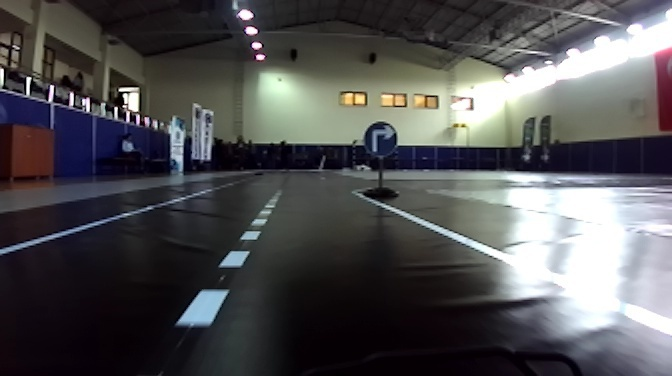saga_donus: (362, 120, 399, 155)
